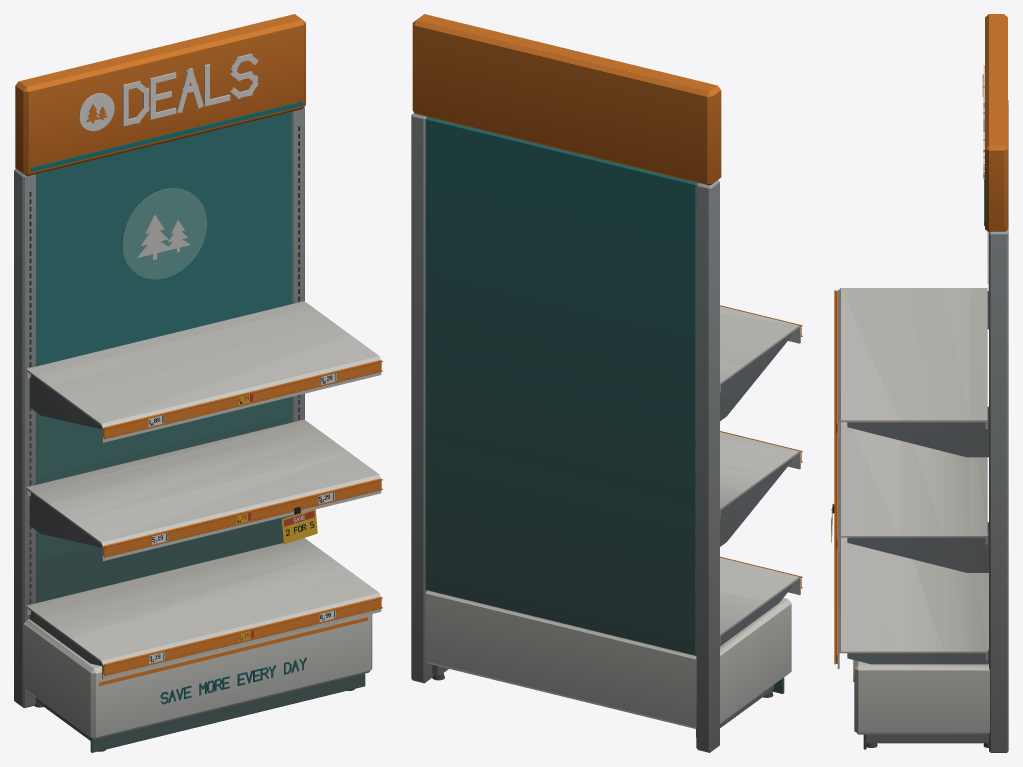
File: gs-gondola-endcap.glb
The picture shows the model from 3 angles, left to right: view 1: azimuth 30°, elevation 25°; view 2: azimuth 150°, elevation 25°; view 3: azimuth 270°, elevation 25°; orthographic projection. The views are drawn at different scales.
Visible parts, largest first — view 1: gs_gondola_endcap; view 2: gs_gondola_endcap; view 3: gs_gondola_endcap.
Part boxes in pixels (x1,y1,x2,y2): gs_gondola_endcap: [14, 14, 382, 752]; gs_gondola_endcap: [411, 14, 802, 752]; gs_gondola_endcap: [831, 14, 1008, 752].
Bounding box in the file's own units: 0.9999 × 2.1 × 0.5562.
